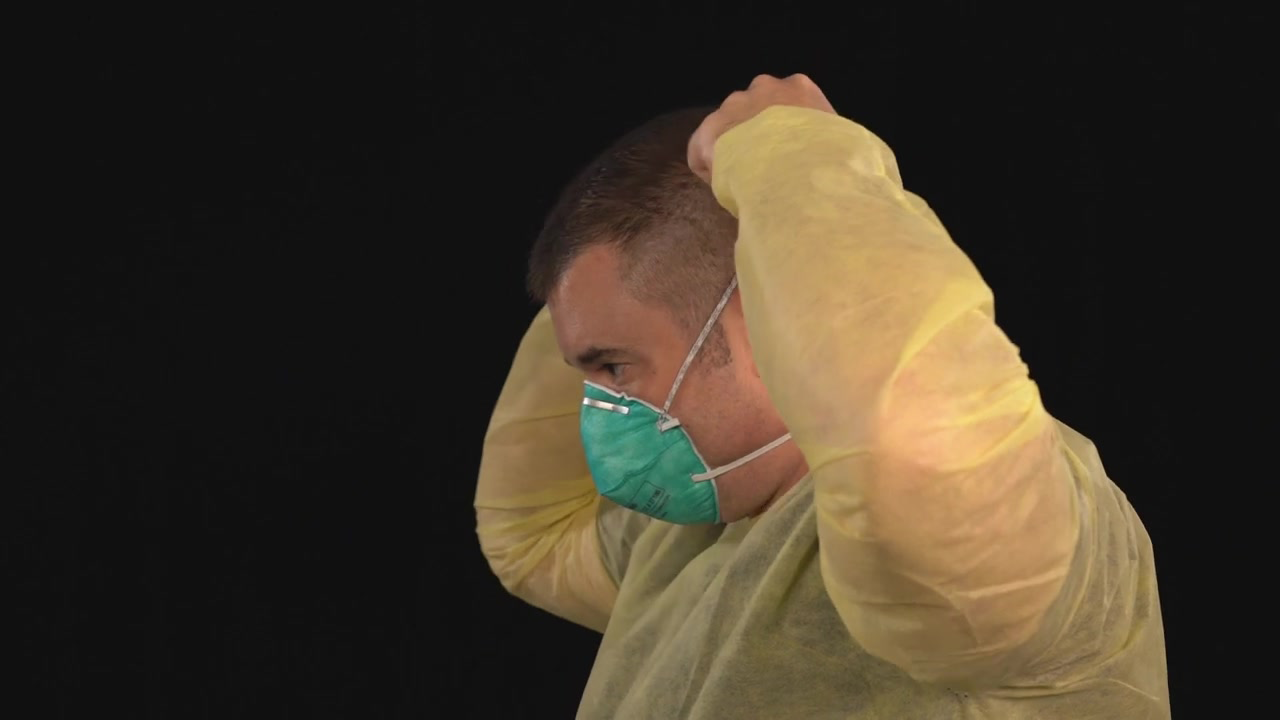Coverall: (422, 152, 1178, 720)
with_mask: (557, 348, 726, 547)
